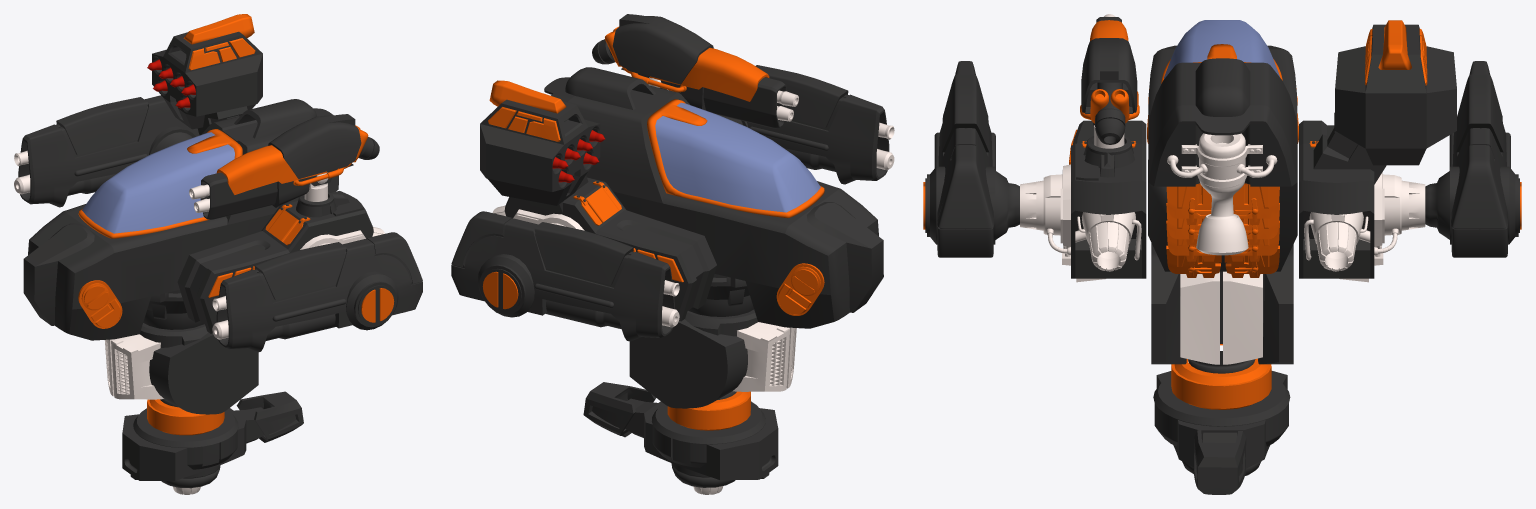
The model's file is mech.glb.
3 renders of one model, left to right at view 1: azimuth 30°, elevation 25°; view 2: azimuth 150°, elevation 25°; view 3: azimuth 270°, elevation 25°, orthographic. The views are drawn at different scales.
Visible parts, largest first — view 1: Plane.001, Cylinder.063, Cylinder.055, Cube.026, Plane.004, Plane.005, Cube.031, Plane.006, Cube.034, Cube.014, Plane.002, Plane.008 (+17 smaller); view 2: Plane.001, Cylinder.055, Plane.004, Cube.026, Cylinder.063, Plane.006, Cube.012, Plane.010, Cube.034, Cube.015, Plane.002, Plane.008 (+14 smaller); view 3: Plane.001, Plane.006, Cylinder.063, Cylinder.055, Cube.026, Plane.005, Plane.010, Cylinder.025, Cylinder.005, Cube.015, Cube.014, Mesh (+21 smaller).
Part boxes in pixels (bbox=[...]): Plane.001: bbox=[23, 99, 338, 340]; Cylinder.063: bbox=[216, 232, 422, 352]; Cylinder.055: bbox=[18, 95, 199, 207]; Cube.026: bbox=[122, 391, 303, 488]; Plane.004: bbox=[82, 132, 234, 233]; Plane.005: bbox=[177, 191, 373, 333]; Cube.031: bbox=[149, 332, 258, 414]; Plane.006: bbox=[152, 31, 262, 129]; Cube.034: bbox=[268, 114, 361, 178]; Cube.014: bbox=[111, 334, 163, 399]; Plane.002: bbox=[216, 145, 326, 194]; Plane.008: bbox=[200, 172, 277, 219]; Plane.001: bbox=[544, 67, 883, 328]; Cylinder.055: bbox=[451, 211, 674, 341]; Plane.004: bbox=[655, 102, 820, 212]; Cube.026: bbox=[583, 382, 778, 487]; Cylinder.063: bbox=[741, 65, 889, 184]; Plane.006: bbox=[480, 99, 600, 205]; Cube.012: bbox=[629, 319, 747, 408]; Plane.010: bbox=[504, 177, 716, 321]; Cube.034: bbox=[612, 14, 713, 84]; Cube.015: bbox=[733, 322, 789, 391]; Plane.002: bbox=[650, 47, 769, 101]; Plane.008: bbox=[703, 77, 786, 128]; Plane.001: bbox=[1148, 45, 1297, 271]; Plane.006: bbox=[1335, 24, 1456, 165]; Cylinder.063: bbox=[925, 61, 995, 257]; Cylinder.055: bbox=[1449, 61, 1519, 257]; Cube.026: bbox=[1153, 371, 1290, 494]; Plane.005: bbox=[1071, 120, 1146, 278]; Plane.010: bbox=[1299, 120, 1374, 278]; Cylinder.025: bbox=[1167, 133, 1277, 255]; Cylinder.005: bbox=[1171, 344, 1271, 409]; Cube.015: bbox=[1223, 271, 1262, 364]; Cube.014: bbox=[1180, 272, 1219, 364]; Mesh: bbox=[1020, 164, 1105, 282].
Bounding box in the file's own units: 6.42 × 7.82 × 8.27.
